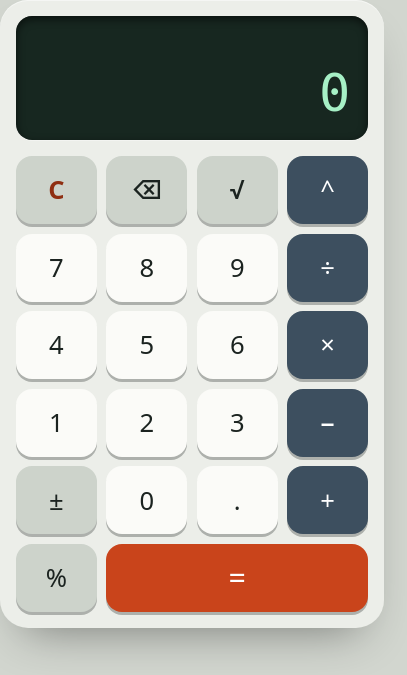
Calculator (mouse and touch) › chains operations, evaluating the first when the next operator is pressed
Click the button "2".
click(147, 423)  # box [106, 389, 187, 457]
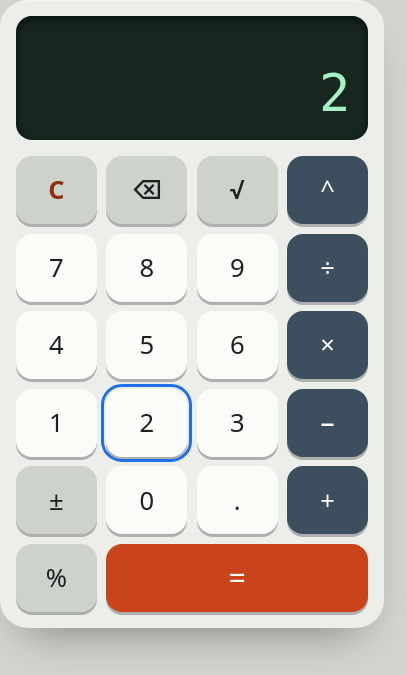
Click the button named "Add".
click(328, 500)  # box [287, 466, 368, 534]
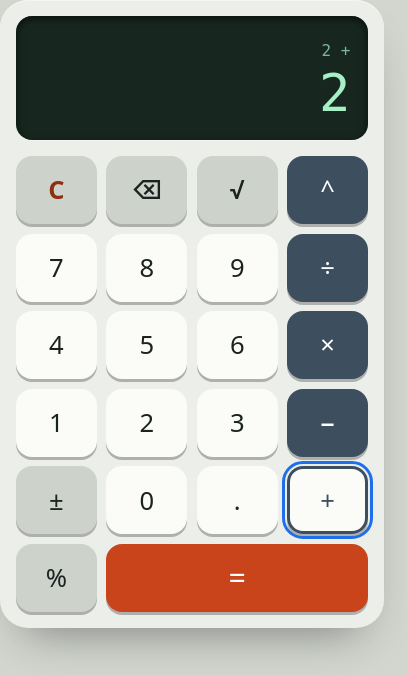
Click the button "3".
click(237, 423)  # box [197, 389, 278, 457]
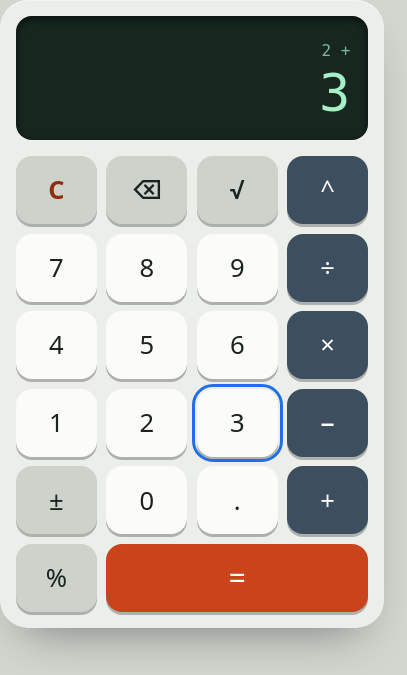
Click the button named "Multiply".
click(328, 345)  # box [287, 311, 368, 379]
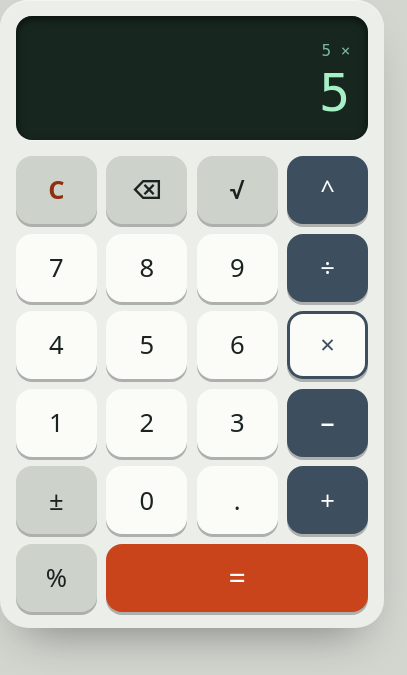
expect the message reads "5 × 5": met, box [16, 16, 368, 140]
Click the button "4".
click(56, 345)  # box [16, 311, 97, 379]
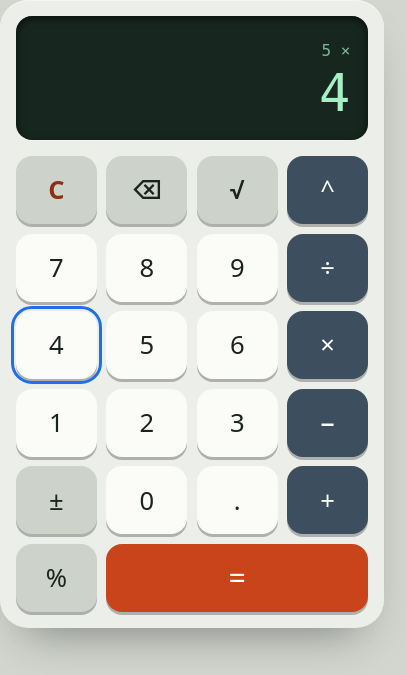
Click the button named "Equals".
click(237, 578)  # box [106, 544, 368, 612]
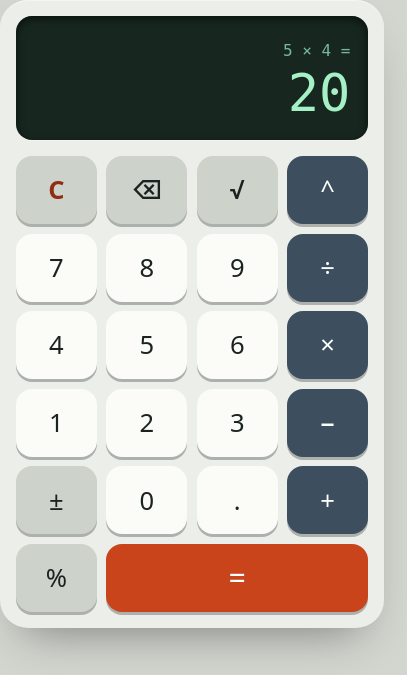
expect the message reads "5 × 4 = 20": met, box [16, 16, 368, 140]
